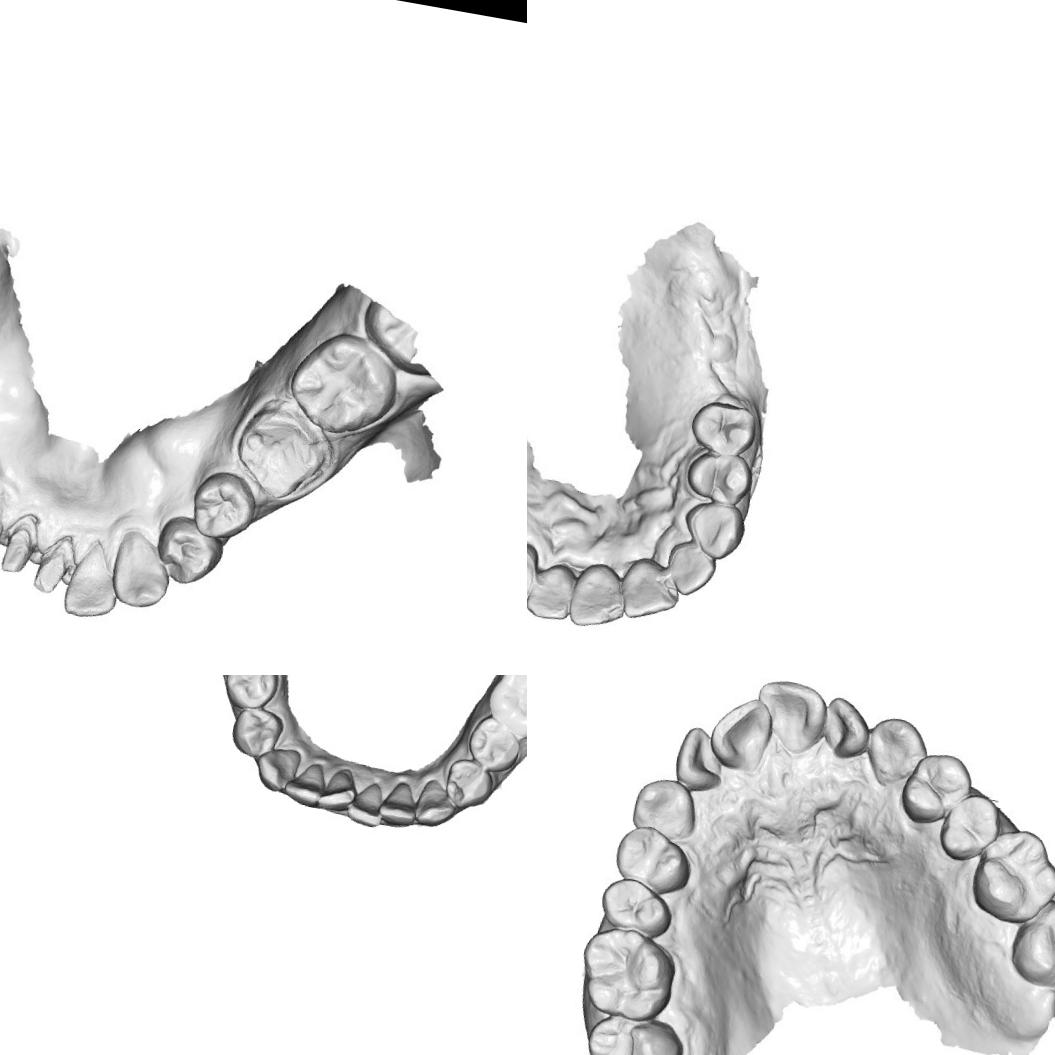canine: (109, 529, 176, 613), (862, 708, 928, 790), (627, 775, 700, 841), (678, 497, 751, 562), (249, 742, 301, 796), (412, 776, 462, 832), (527, 537, 540, 605)
crown: (236, 402, 330, 499), (28, 532, 77, 600), (0, 514, 45, 581)
incisor: (751, 675, 825, 751), (566, 556, 632, 634), (64, 536, 124, 618), (670, 725, 737, 798), (712, 696, 774, 774), (616, 556, 684, 626), (817, 693, 874, 760), (661, 540, 718, 598), (527, 558, 577, 622), (280, 756, 330, 812), (374, 776, 423, 832), (314, 764, 360, 820), (342, 778, 388, 830)
molar: (284, 330, 399, 436), (573, 922, 682, 1026), (969, 824, 1055, 930), (577, 1007, 688, 1055), (1009, 897, 1055, 996), (481, 675, 527, 744)
premolar: (609, 818, 698, 894), (896, 748, 974, 832), (927, 790, 1008, 866), (593, 868, 674, 936), (686, 394, 760, 461), (152, 514, 221, 582), (682, 446, 756, 508), (462, 711, 525, 775), (192, 472, 250, 540), (227, 702, 287, 763), (440, 754, 498, 812), (220, 675, 283, 713)
